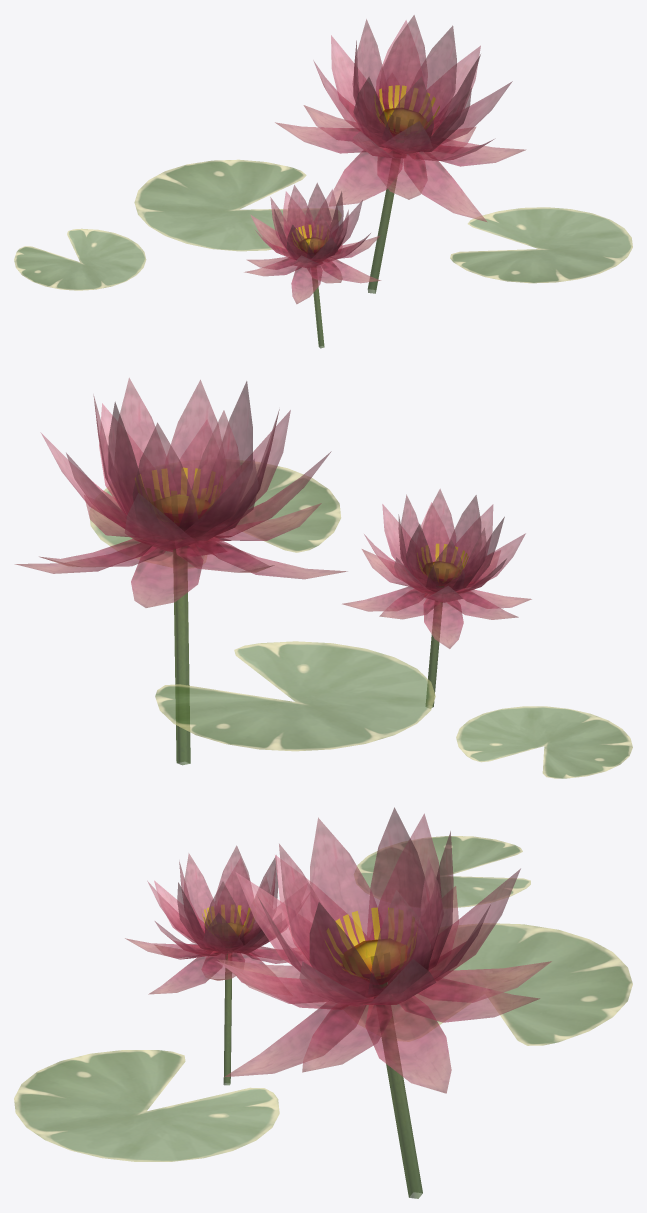
File: SM_Water_Lilies.glb
3 views of the same model, one above another, from view 1: azimuth 30°, elevation 25°; view 2: azimuth 150°, elevation 25°; view 3: azimuth 270°, elevation 25° (orthographic). The views are drawn at different scales.
Parts seen in each view (by area): view 1: SM_Water_Lilies_LOD0; view 2: SM_Water_Lilies_LOD0; view 3: SM_Water_Lilies_LOD0.
Part boxes in pixels (left/top/right/bottom): SM_Water_Lilies_LOD0: left=14, top=15, right=632, bottom=348; SM_Water_Lilies_LOD0: left=15, top=378, right=632, bottom=778; SM_Water_Lilies_LOD0: left=14, top=807, right=632, bottom=1198.
Bounding box in the file's own units: 1.71 × 0.8797 × 1.32.
1 material, 1 textured.
